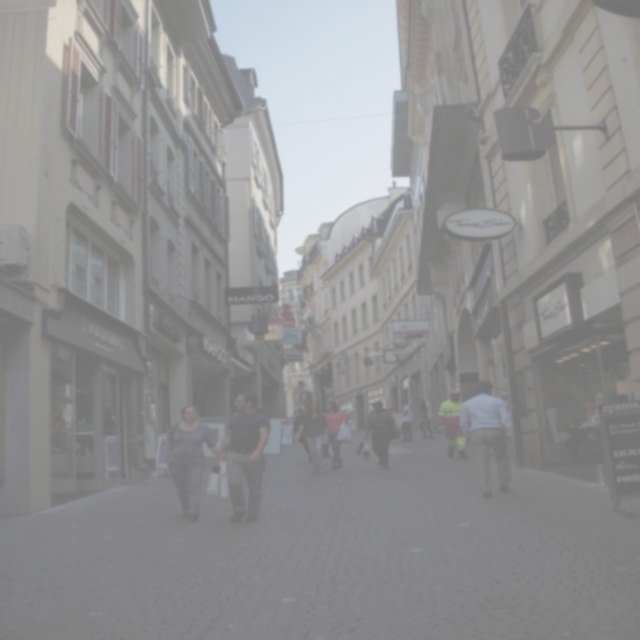pessoa: (212, 391, 272, 526), (163, 404, 226, 524), (458, 378, 514, 498), (578, 398, 610, 488), (363, 400, 400, 470), (296, 398, 330, 474), (320, 399, 353, 471), (436, 390, 469, 460), (297, 399, 325, 462), (416, 398, 435, 441), (398, 399, 414, 442), (500, 393, 516, 420), (342, 410, 354, 432), (296, 406, 304, 434), (292, 410, 299, 422), (388, 407, 396, 414)
